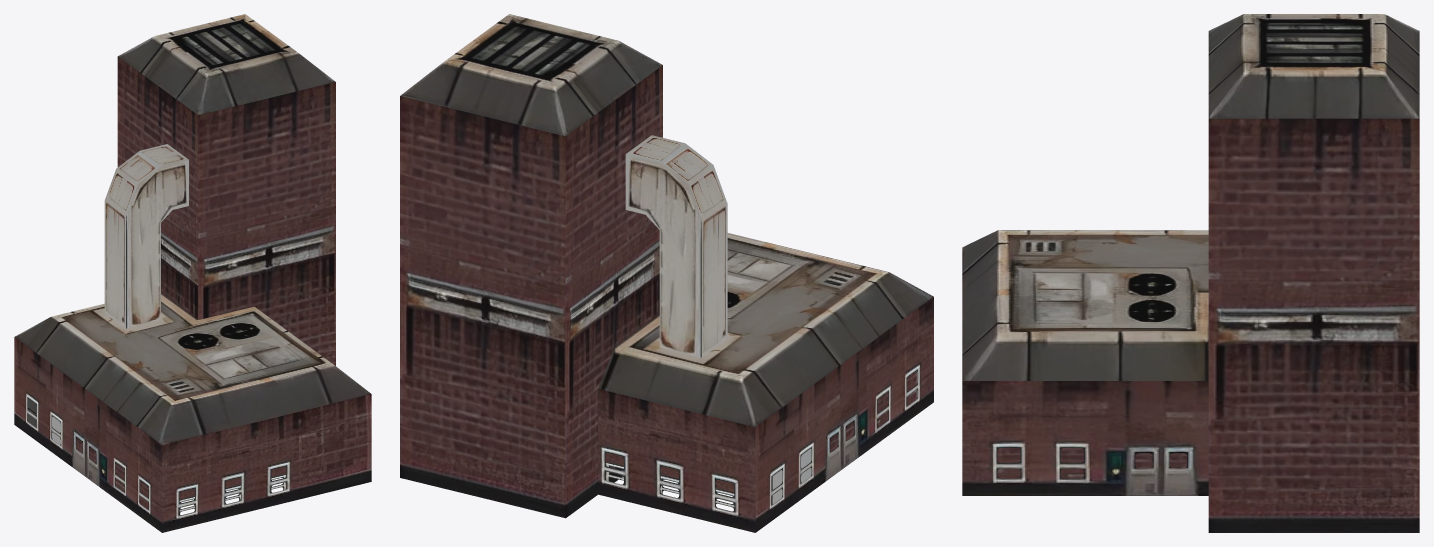
File: industrialplant_hdtex.glb
The picture shows the model from 3 angles, left to right: view 1: azimuth 30°, elevation 25°; view 2: azimuth 150°, elevation 25°; view 3: azimuth 270°, elevation 25°; orthographic projection. The views are drawn at different scales.
Parts seen in each view (by area): view 1: IndustrialPlant, LitWin_IndustrialPlant; view 2: IndustrialPlant, LitWin_IndustrialPlant; view 3: IndustrialPlant, LitWin_IndustrialPlant.
Part boxes in pixels (left/top/right/bottom): IndustrialPlant: left=14, top=14, right=371, bottom=532; LitWin_IndustrialPlant: left=27, top=399, right=286, bottom=513; IndustrialPlant: left=400, top=14, right=933, bottom=532; LitWin_IndustrialPlant: left=605, top=371, right=917, bottom=509; IndustrialPlant: left=962, top=14, right=1419, bottom=532; LitWin_IndustrialPlant: left=997, top=448, right=1187, bottom=478.
Size of the model in its own units: 16.74 by 20.38 by 18.93.
Materials: 1 (1 with a texture image).
